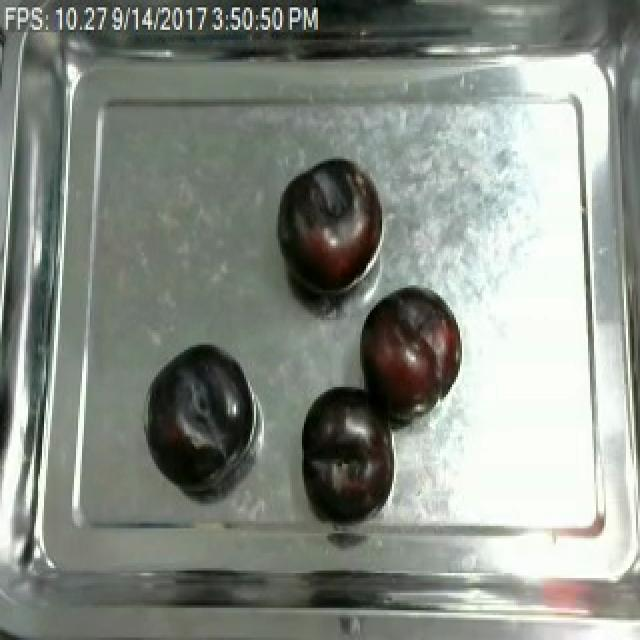Fruit: (142, 340, 254, 489), (272, 154, 384, 302), (356, 283, 466, 427), (300, 379, 396, 526)
